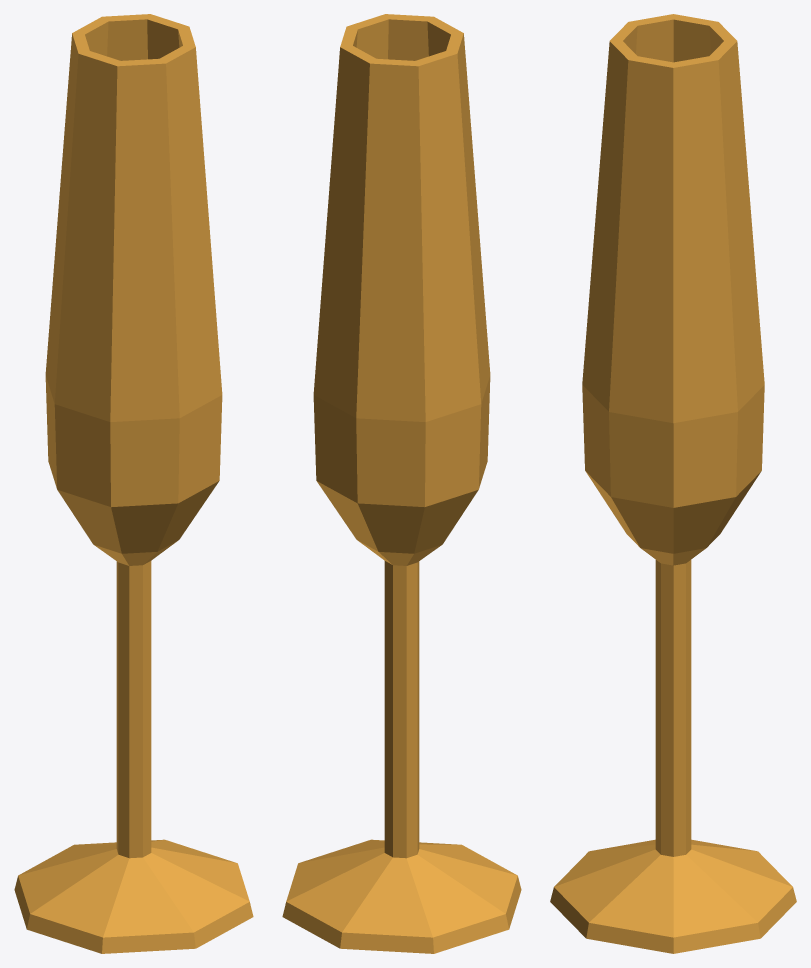
The model's file is SM_Glass_Champagne.fbx.
3 views of the same model, side by side, from view 1: azimuth 30°, elevation 25°; view 2: azimuth 150°, elevation 25°; view 3: azimuth 270°, elevation 25° (orthographic).
Visible parts, largest first — view 1: glass-champagne; view 2: glass-champagne; view 3: glass-champagne.
Part boxes in pixels (box(x1,y1,x2,y2)): glass-champagne: box(14, 14, 253, 953); glass-champagne: box(282, 14, 521, 953); glass-champagne: box(550, 14, 796, 953).
Size of the model in its own units: 0.0598 by 0.2302 by 0.0598.
